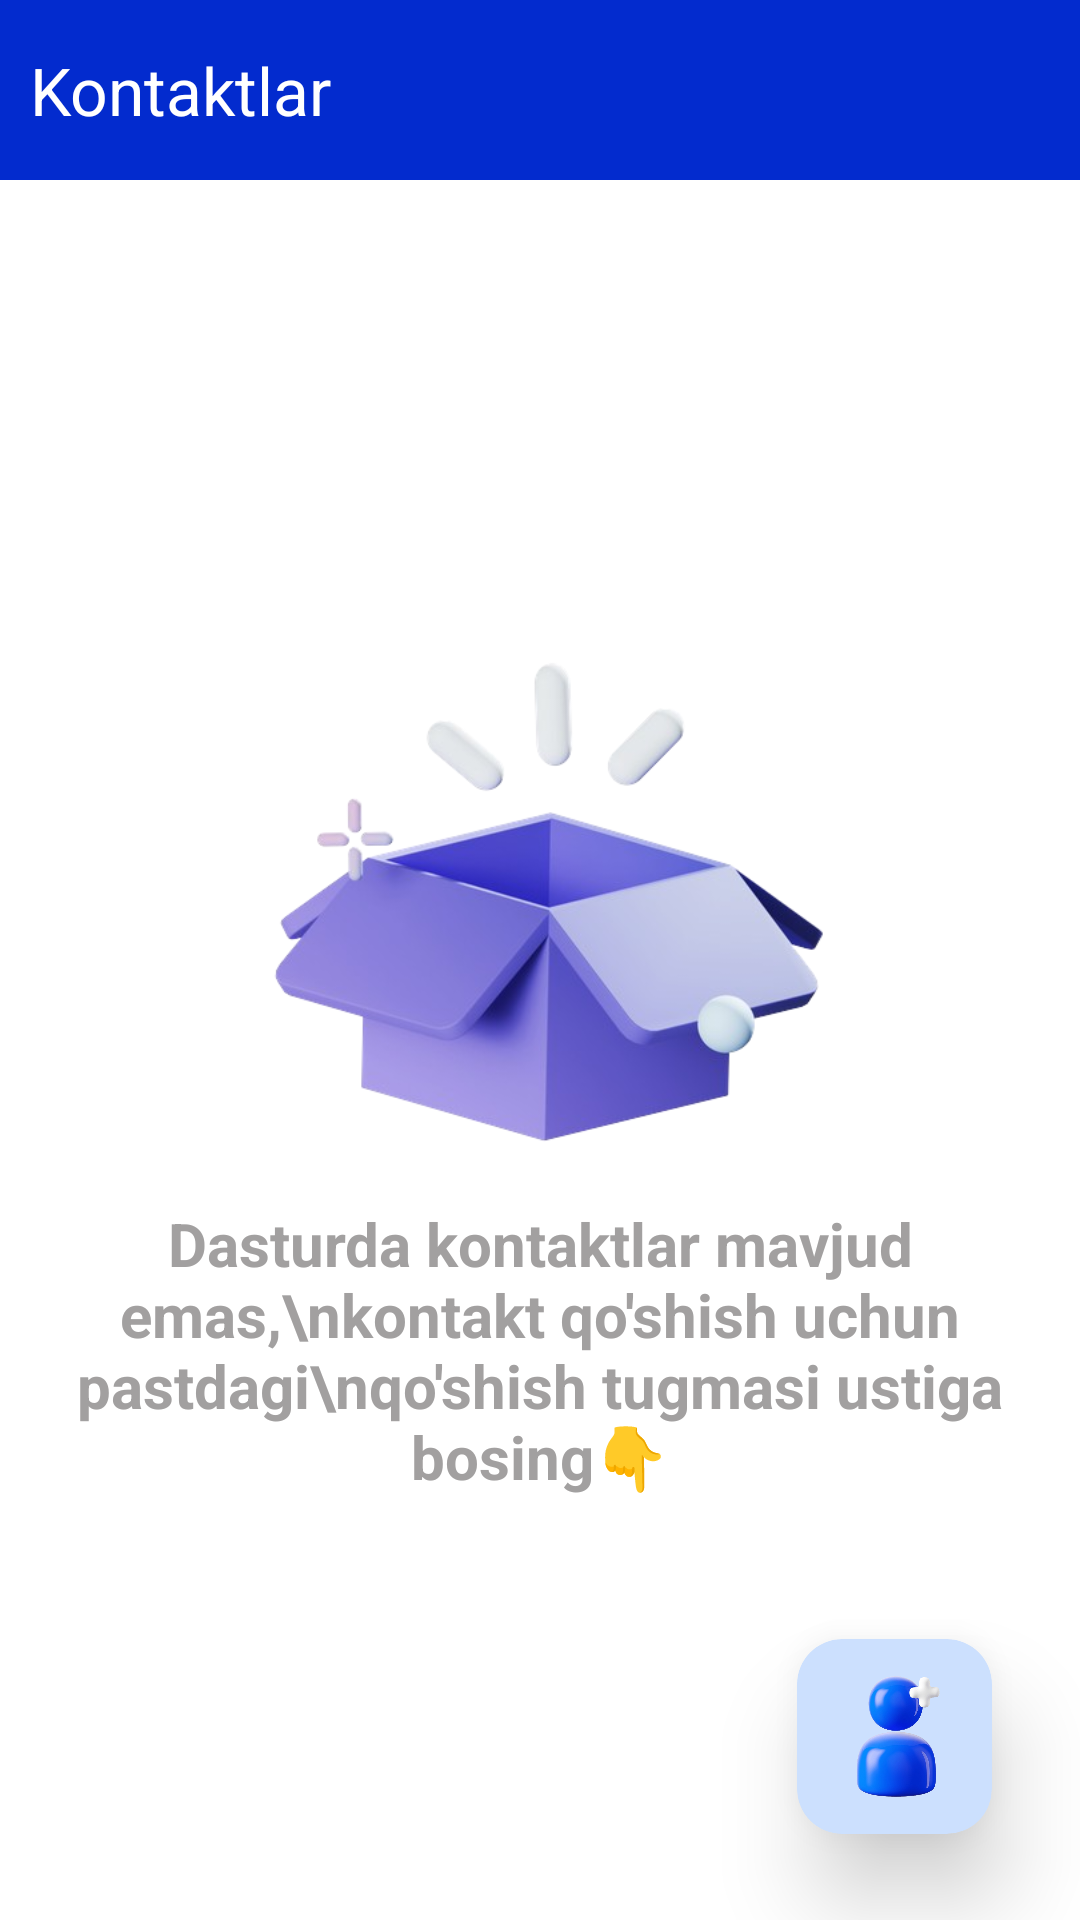

Locate icon controls on the screen. Image size 1080 × 1920, boxes as rect(x1, y1, x2, y2).
add: rect(797, 1639, 992, 1834)
